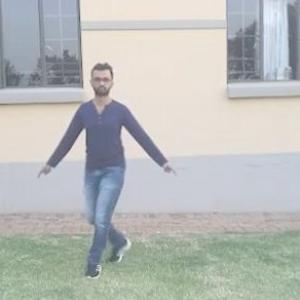land: (40, 74, 165, 248)
